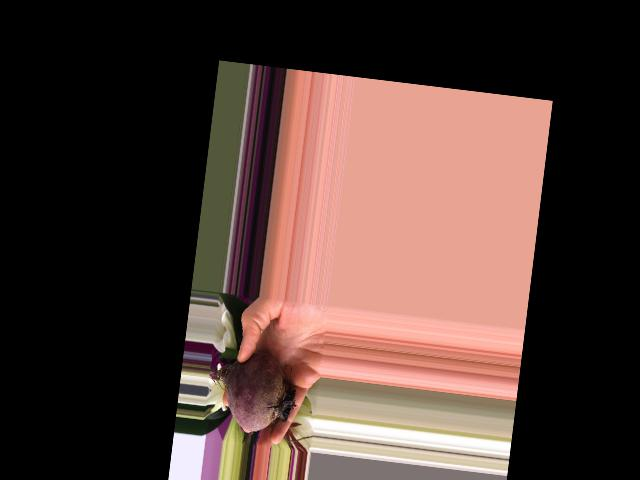beet: (203, 346, 303, 437)
